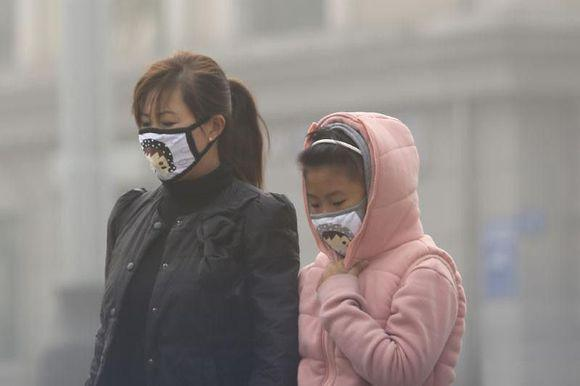OK: (141, 100, 214, 178), (309, 190, 373, 257)
